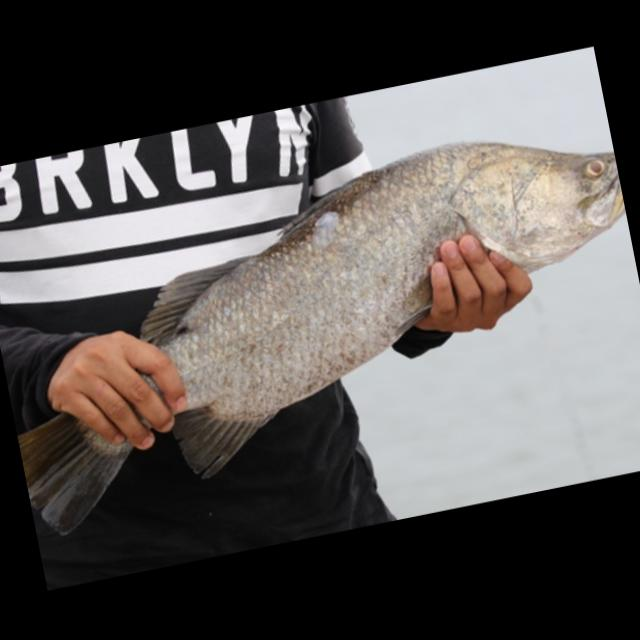Seabass: (0, 106, 640, 540)
